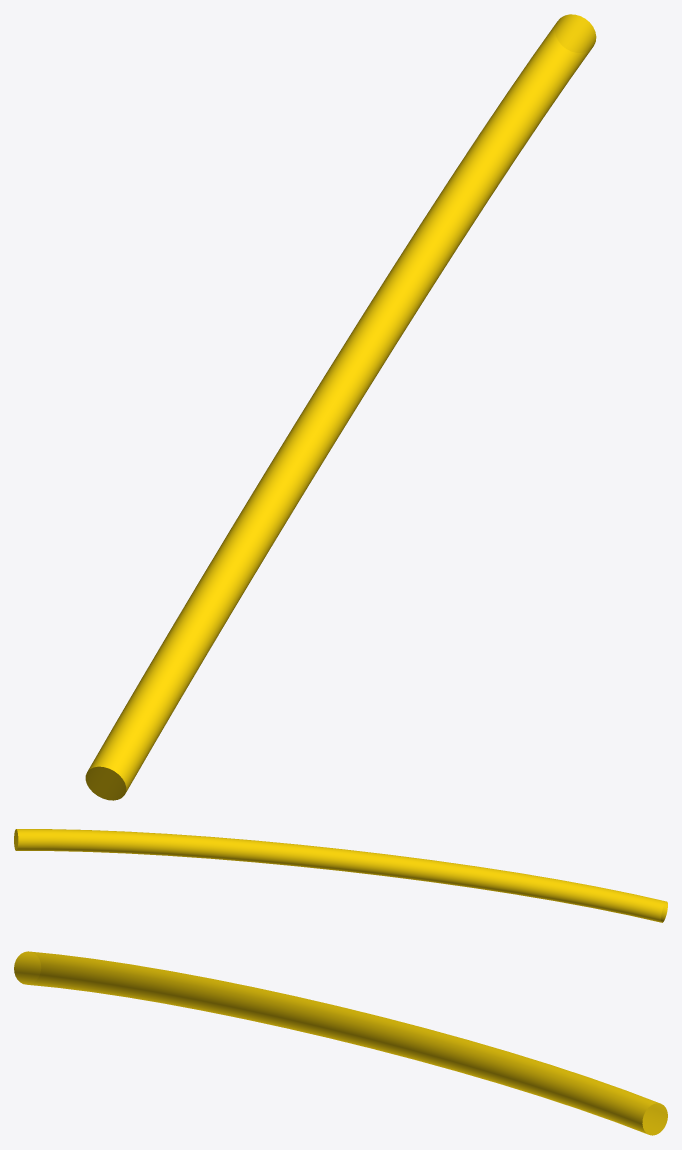
File: Event_420094457_track_14.fbx
3 views of the same model, one above another, from view 1: azimuth 30°, elevation 25°; view 2: azimuth 150°, elevation 25°; view 3: azimuth 270°, elevation 25° (orthographic). The views are drawn at different scales.
Parts seen in each view (by area): view 1: Model; view 2: Model; view 3: Model.
Boxes of the visible parts, box(x1,y1,x2,y2) form: Model: box(85, 14, 596, 800); Model: box(14, 829, 667, 922); Model: box(14, 951, 667, 1135).
Bounding box in the file's own units: 0.9516 × 0.2711 × 0.7824.
